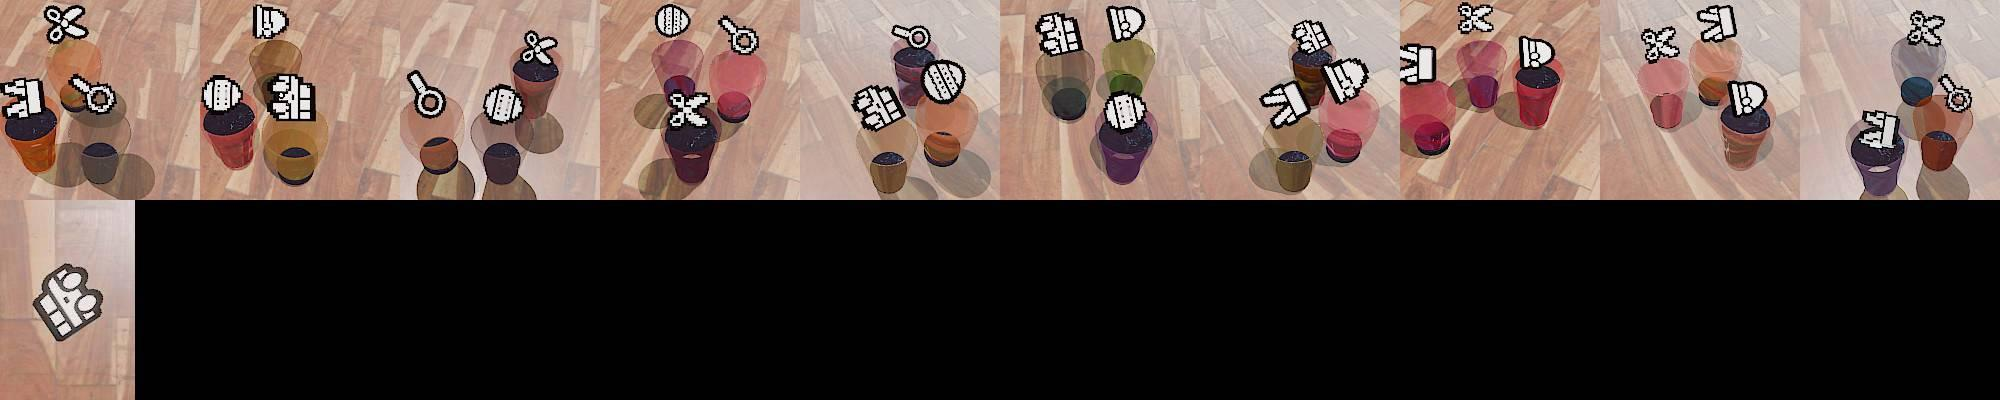icon: (32, 261, 106, 341), (852, 83, 908, 131), (265, 71, 316, 122), (1261, 79, 1312, 127), (1321, 56, 1370, 106), (1037, 10, 1083, 59), (407, 68, 448, 121), (0, 75, 47, 120), (66, 74, 115, 117), (42, 4, 89, 45), (1101, 92, 1148, 132), (922, 60, 964, 104), (665, 88, 712, 127), (717, 15, 760, 57), (1860, 107, 1901, 149), (482, 83, 523, 125), (1696, 3, 1737, 43), (202, 74, 242, 113), (1727, 79, 1767, 118), (1640, 25, 1681, 64), (1291, 19, 1332, 57), (1401, 42, 1436, 85), (1907, 10, 1946, 48), (251, 3, 291, 41), (1937, 73, 1974, 113), (1105, 5, 1145, 42), (1519, 34, 1556, 73), (520, 31, 559, 66), (654, 4, 693, 38), (1458, 3, 1496, 33), (892, 22, 931, 50)
